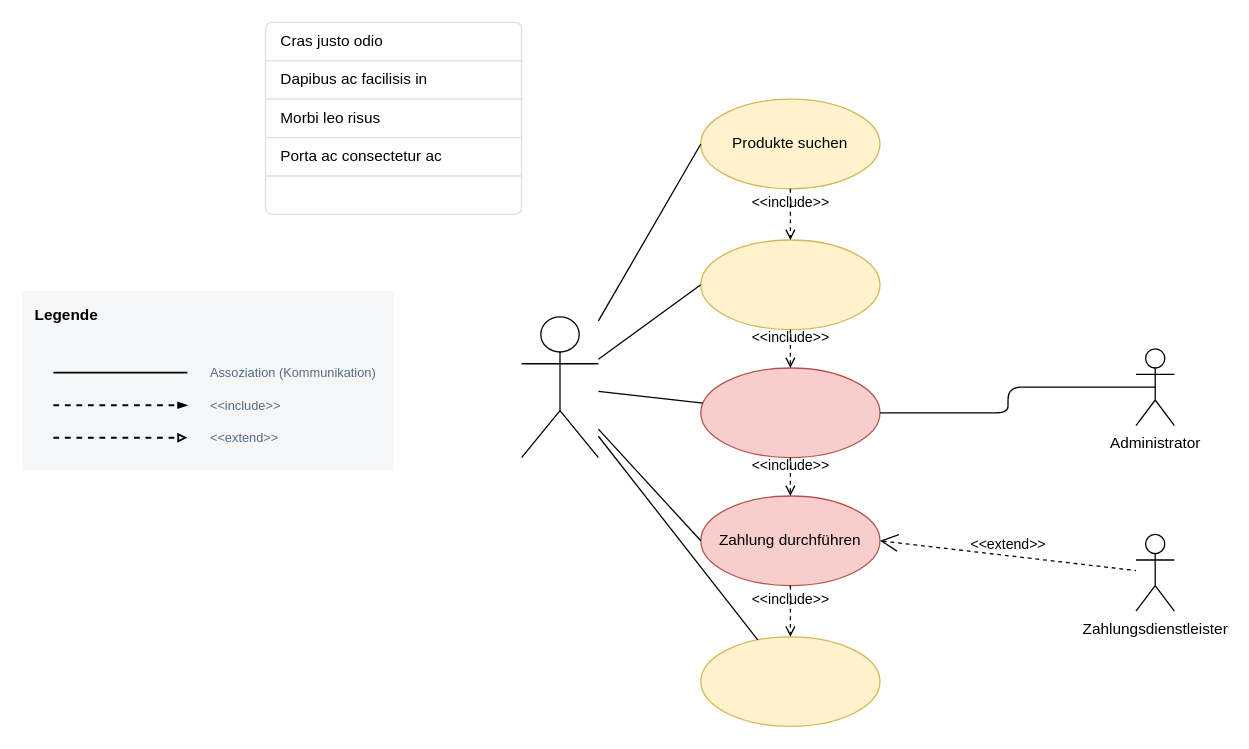
Some shapes in this 1249 by 749 pixel diagram are drawn without their labels. Each missing label, with the centre of its shape:
Actor: the point at 559,387
Bestellung aufgeben: the point at 790,412
Bestellung verfolgen: the point at 790,681
Vestibulum at eros: the point at 393,194
Warenkorb verwalten: the point at 790,284
